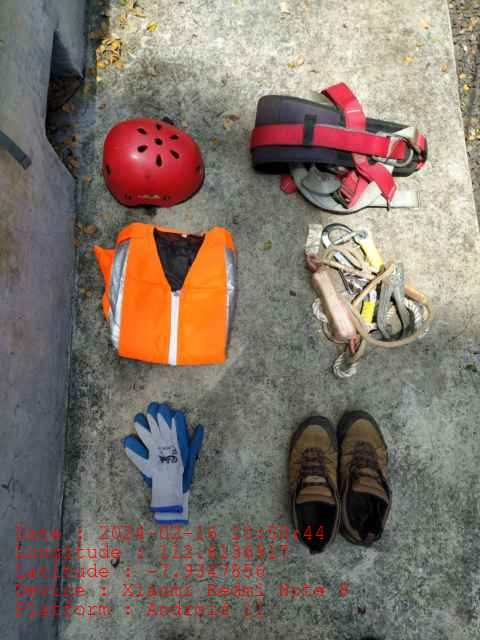HELM: (101, 117, 205, 209)
ROMPI: (95, 219, 236, 364)
SARUNG_TANGAN: (123, 402, 203, 523)
TAMBANG_SLING: (302, 221, 432, 379)
